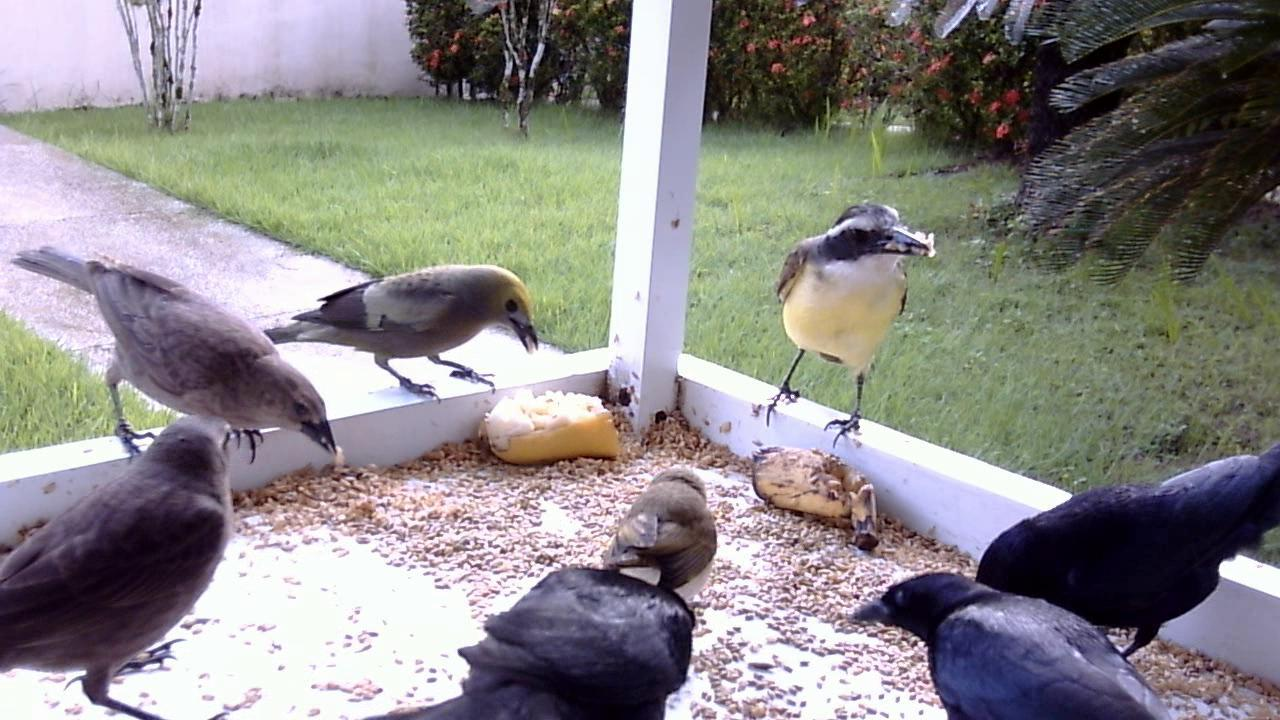bem_te_vi: (748, 197, 932, 460)
canario_do_amazonas: (602, 466, 721, 604)
chupim: (5, 242, 335, 488), (1, 408, 255, 720), (973, 424, 1280, 679), (363, 559, 700, 720), (842, 564, 1172, 719)
sanhaco_do_coqueiro: (261, 251, 544, 411)
